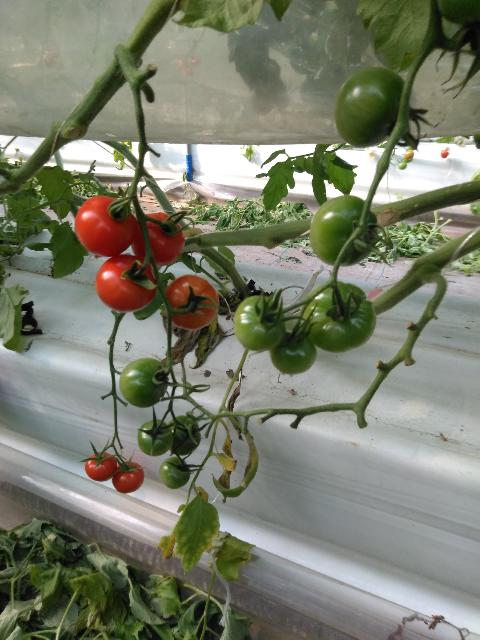l_fully_ripened: (74, 195, 137, 258), (94, 254, 158, 312), (131, 212, 184, 266), (112, 460, 145, 494), (85, 451, 118, 482)
l_green: (333, 67, 409, 148), (301, 281, 375, 354), (308, 195, 378, 267), (234, 296, 285, 351), (119, 358, 168, 409), (268, 330, 316, 373), (167, 416, 201, 456), (136, 419, 172, 456), (159, 456, 191, 489)
l_half_ripened: (165, 274, 220, 330)
